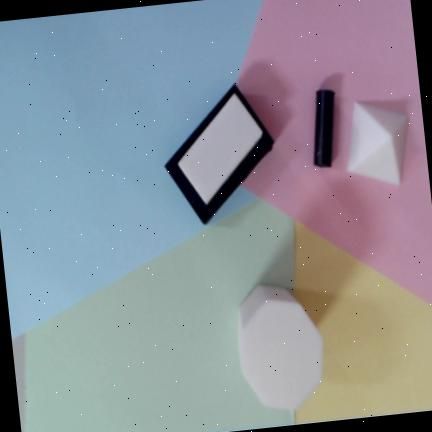Cilindro: (313, 89, 334, 166)
Paralelepipedo: (166, 85, 273, 223), (178, 94, 263, 205)
Piramide: (347, 103, 407, 185)
Prisma_hexagonal: (238, 284, 322, 410)
